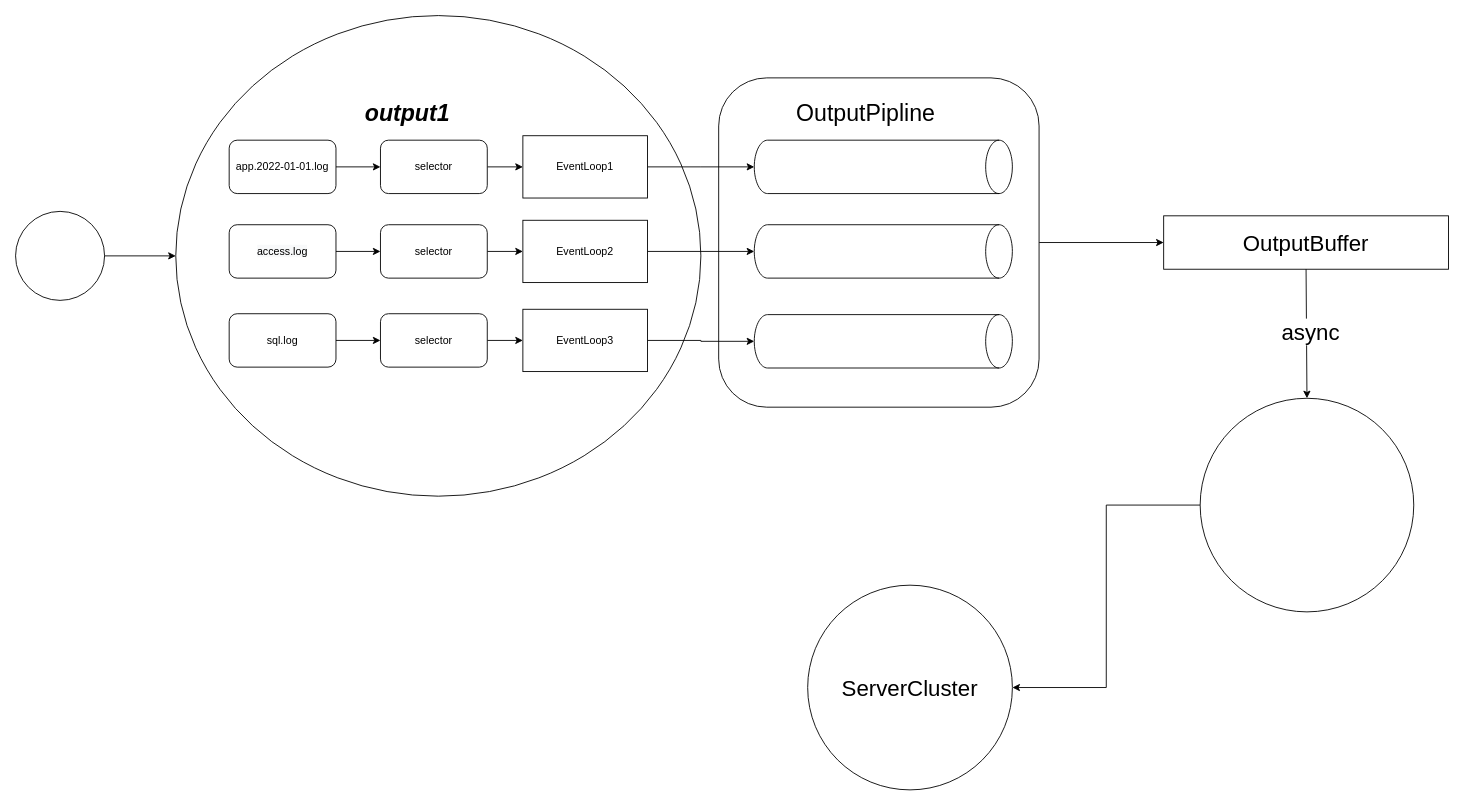
Image size: 1464x805. Some labels were removed from this diagram. The shapes that lost their labels are listed below. From the top down, each one's centre as x and y in pixels, then its label:
At point 60,255: "App1".
At point 1306,504: "RpcProcessors".
